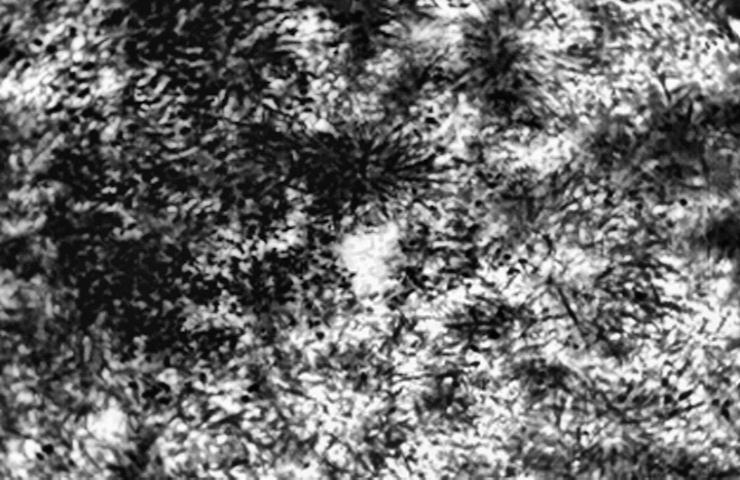landmines: (332, 215, 408, 303)
